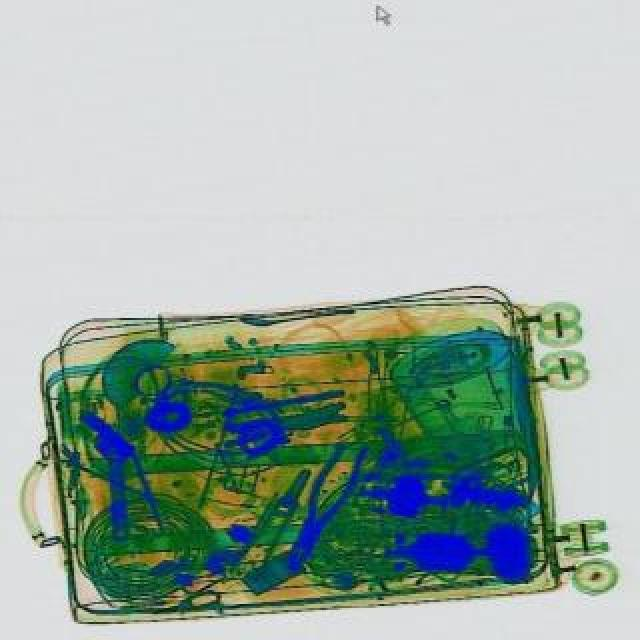scissors: (92, 428, 136, 540)
wrench: (274, 436, 368, 576), (226, 462, 316, 582)
